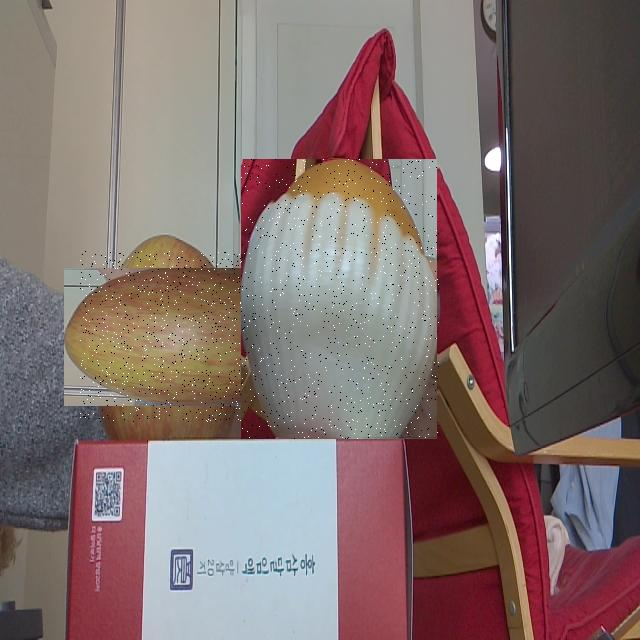apple: (80, 251, 251, 422)
pear: (242, 159, 439, 439)
